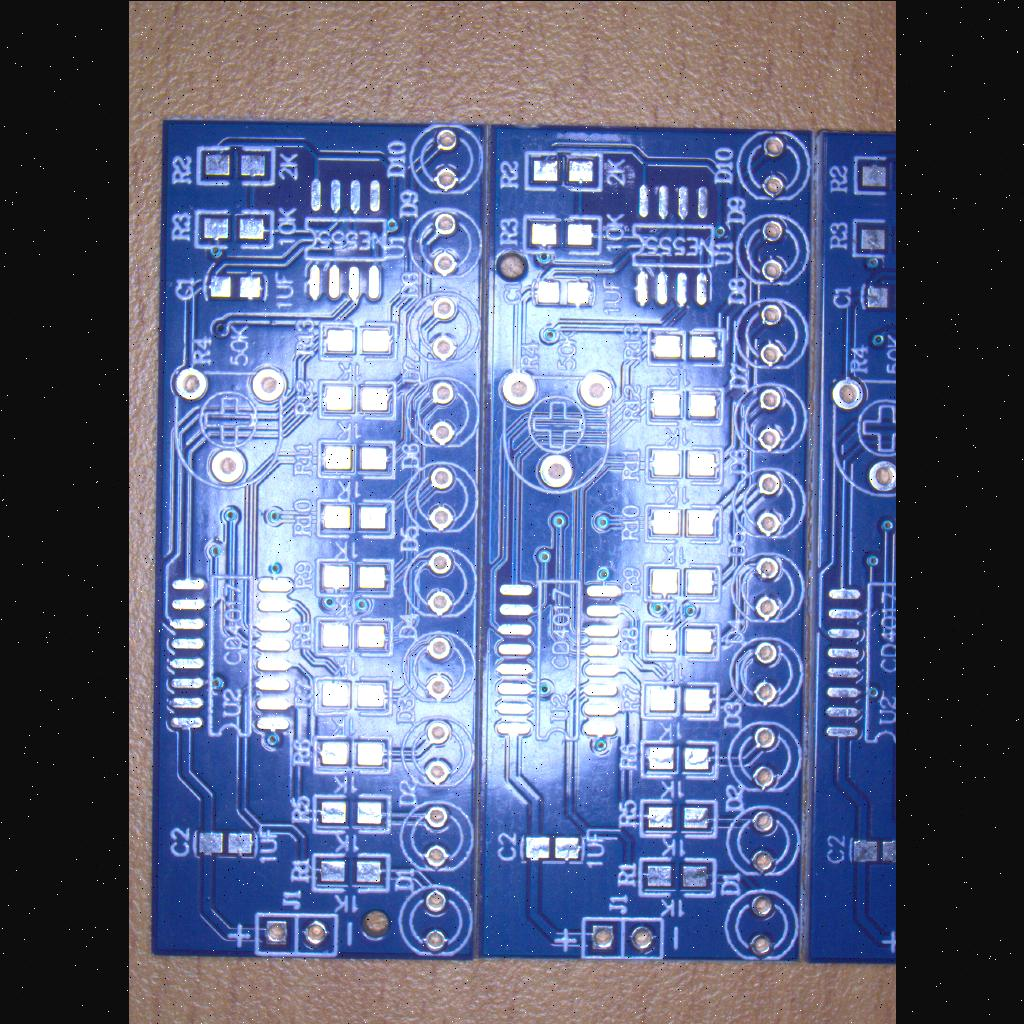NG: (490, 566, 626, 750), (160, 562, 296, 744), (300, 166, 396, 306), (816, 574, 892, 750), (624, 174, 718, 314), (520, 144, 604, 192), (194, 141, 280, 187), (193, 204, 277, 250), (316, 374, 400, 420), (644, 440, 726, 486), (521, 211, 603, 257), (642, 498, 726, 542), (644, 322, 728, 366), (310, 791, 390, 837), (311, 728, 391, 774), (313, 492, 395, 536), (642, 556, 724, 600), (312, 552, 394, 596), (314, 435, 396, 479), (636, 796, 718, 840), (316, 318, 400, 360), (312, 675, 392, 719), (642, 615, 722, 659), (309, 846, 389, 890), (645, 381, 727, 423), (638, 735, 720, 777), (314, 610, 392, 654), (636, 853, 716, 895), (642, 680, 720, 722), (528, 270, 598, 310), (188, 822, 260, 860), (200, 264, 272, 302), (518, 828, 590, 866), (852, 150, 896, 194), (854, 215, 894, 257), (850, 833, 896, 867), (860, 276, 896, 314)
OK: (628, 218, 716, 266), (254, 906, 340, 952), (582, 911, 666, 955)
